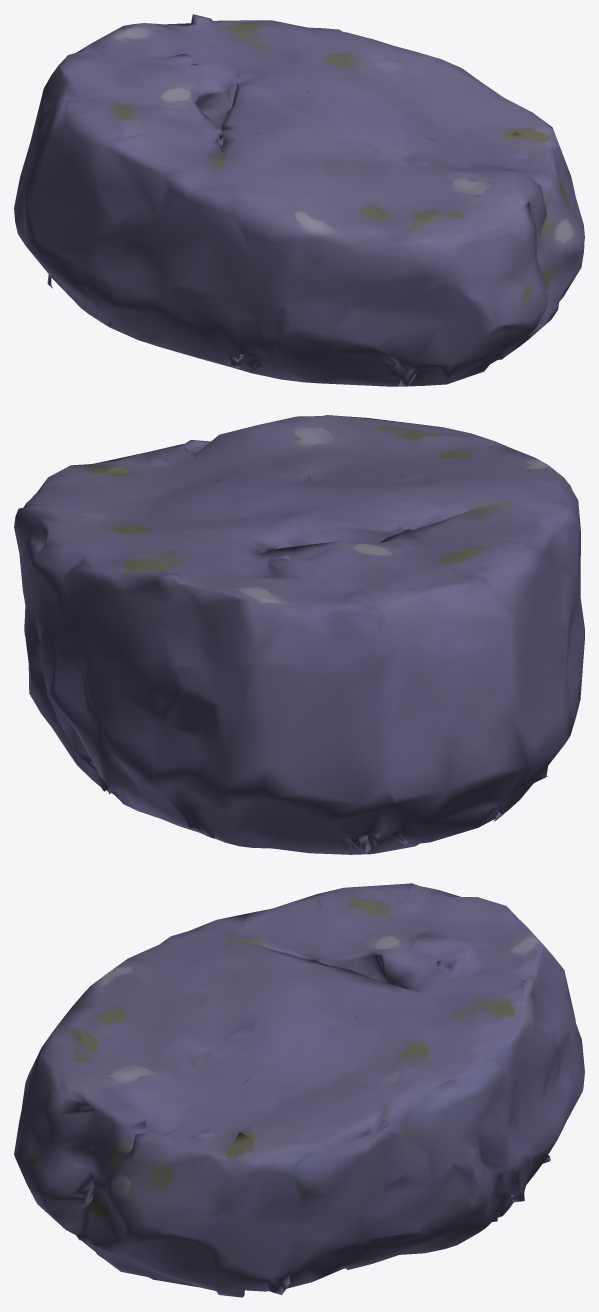
Rendered from kaya_duz.glb.
3 renders of one model, top to bottom at view 1: azimuth 30°, elevation 25°; view 2: azimuth 150°, elevation 25°; view 3: azimuth 270°, elevation 25°, orthographic. The views are drawn at different scales.
Visible parts, largest first — view 1: tripo_node_e4b0adac-614c-45de-93a9-9e3d2841df78; view 2: tripo_node_e4b0adac-614c-45de-93a9-9e3d2841df78; view 3: tripo_node_e4b0adac-614c-45de-93a9-9e3d2841df78.
Part boxes in pixels (x1=…): tripo_node_e4b0adac-614c-45de-93a9-9e3d2841df78: x1=14, y1=14, x2=584, y2=386; tripo_node_e4b0adac-614c-45de-93a9-9e3d2841df78: x1=14, y1=415, x2=584, y2=854; tripo_node_e4b0adac-614c-45de-93a9-9e3d2841df78: x1=14, y1=883, x2=584, y2=1297.
Bounding box in the file's own units: 1.48 × 0.7 × 1.55.
1 material, 1 textured.
